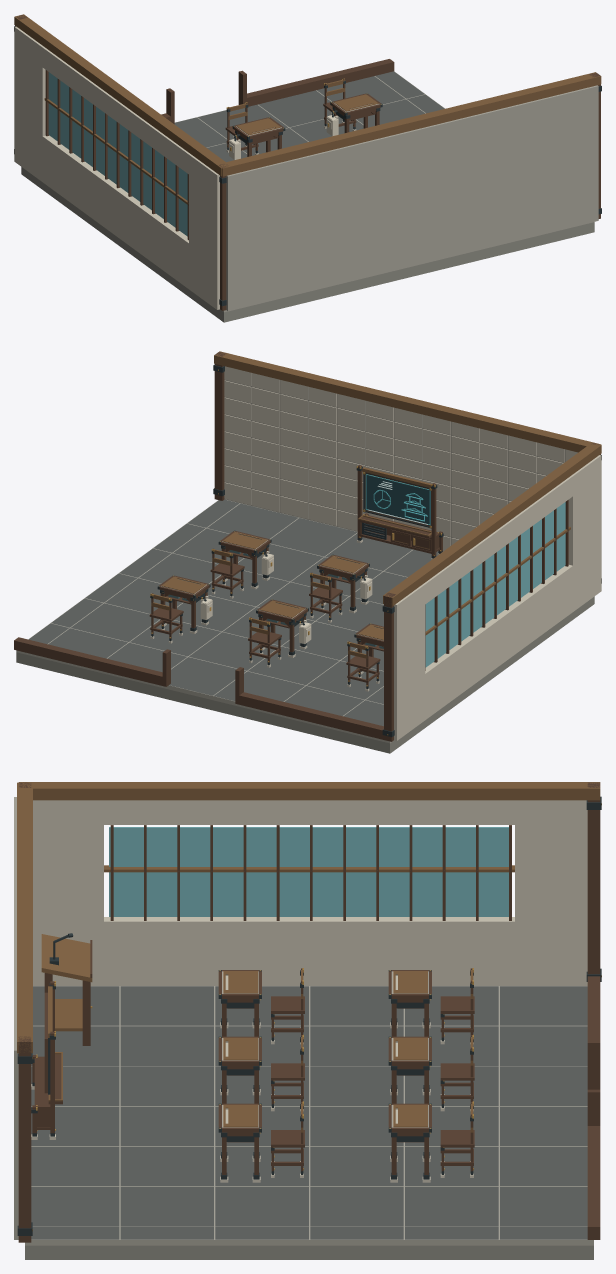
The model's file is visual-far.glb.
The picture shows the model from 3 angles, top to bottom: view 1: azimuth 30°, elevation 25°; view 2: azimuth 150°, elevation 25°; view 3: azimuth 270°, elevation 25°; orthographic projection. The views are drawn at different scales.
Parts seen in each view (by area): view 1: 真实窗洞、木梁与切角房间墙, 分层实心台基与独立石铺面, 教室桌椅排布接口 · 书封包布用途修正 (×2); view 2: 真实窗洞、木梁与切角房间墙, 分层实心台基与独立石铺面, 教室桌椅排布接口 · 书封包布用途修正 (×5), 黑板/教学屏; view 3: 分层实心台基与独立石铺面, 真实窗洞、木梁与切角房间墙, 教室桌椅排布接口 · 书封包布用途修正 (×6), 连续斜讲台与话筒, 黑板/教学屏.
Boxes of the visible parts, x1,y1,x2,y2 form: 真实窗洞、木梁与切角房间墙: (14,14,601,311); 分层实心台基与独立石铺面: (21,71,594,322); 教室桌椅排布接口 · 书封包布用途修正 (×2): (225,78,382,159); 真实窗洞、木梁与切角房间墙: (14,351,601,741); 分层实心台基与独立石铺面: (16,499,594,753); 教室桌椅排布接口 · 书封包布用途修正 (×5): (149,530,383,691); 黑板/教学屏: (356,465,443,559); 分层实心台基与独立石铺面: (25,986,593,1259); 真实窗洞、木梁与切角房间墙: (14,782,601,1242); 教室桌椅排布接口 · 书封包布用途修正 (×6): (218,968,474,1182); 连续斜讲台与话筒: (41,933,92,1045); 黑板/教学屏: (31,981,62,1139).
Size of the model in its own units: 7.84 by 3.08 by 7.44.
Materials: 16 (16 with a texture image).
